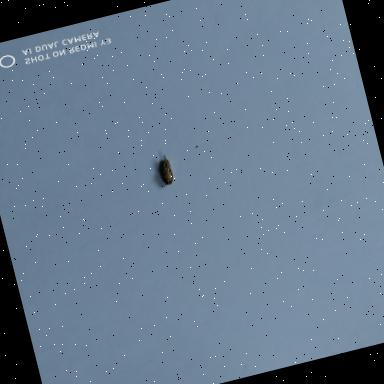pbw: (148, 147, 188, 191)
